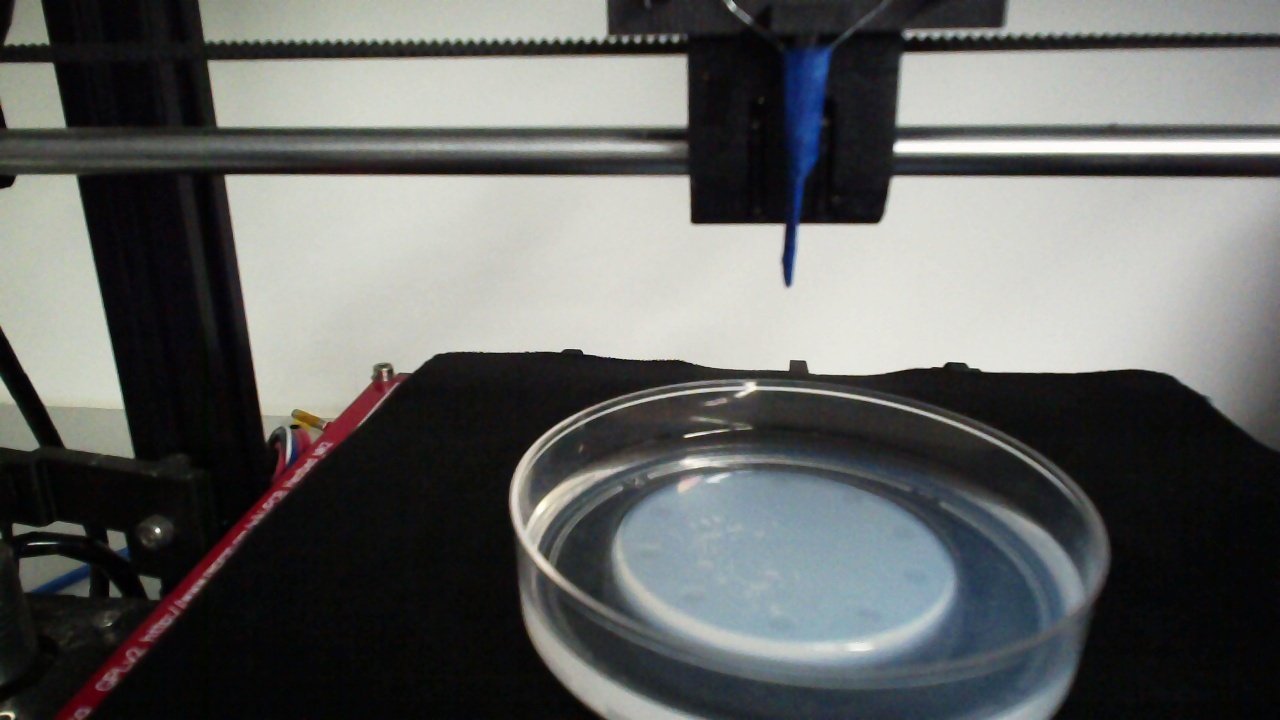groove: (629, 544, 666, 564), (766, 615, 801, 635), (679, 587, 709, 607), (859, 606, 886, 626), (649, 503, 677, 522), (903, 567, 928, 587), (841, 491, 866, 510), (892, 527, 916, 545)
needle: (782, 52, 828, 287)
